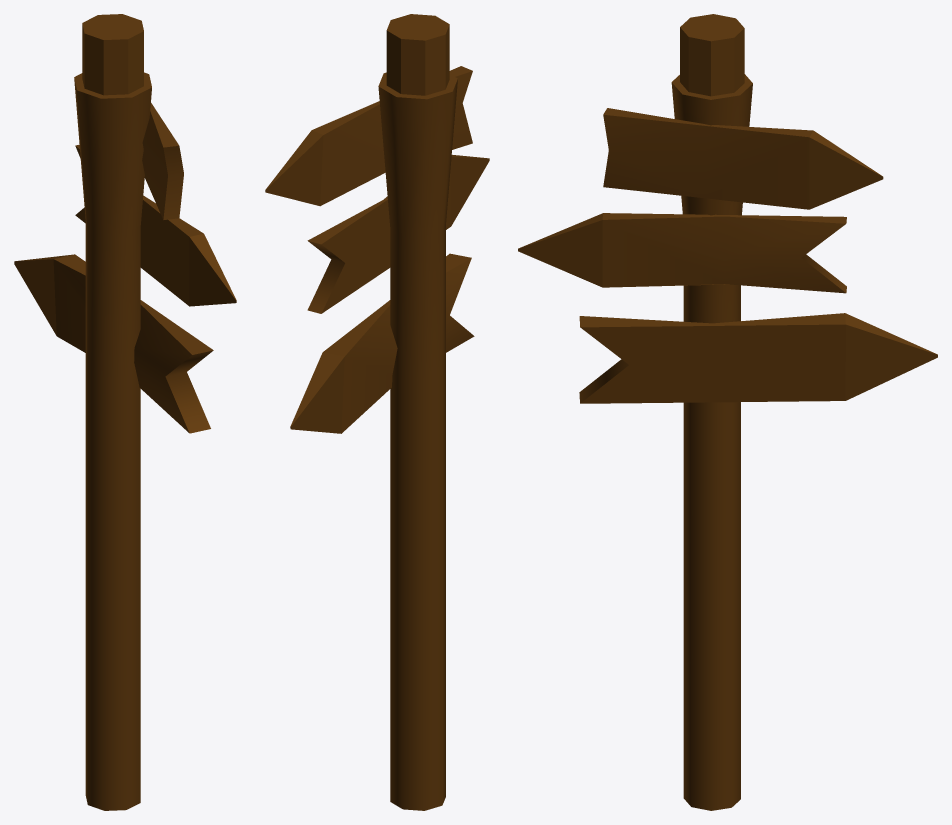
The model's file is signBoard.glb.
3 views of the same model, side by side, from view 1: azimuth 30°, elevation 25°; view 2: azimuth 150°, elevation 25°; view 3: azimuth 270°, elevation 25° (orthographic).
Parts seen in each view (by area): view 1: Cylinder001_Material #25_0, Box001_Material #25_0.001, Box001, Box002; view 2: Cylinder001_Material #25_0, Box001_Material #25_0.001, Box002, Box001; view 3: Cylinder001_Material #25_0, Box001_Material #25_0.001, Box001, Box002.
Part boxes in pixels (x1=…): Cylinder001_Material #25_0: x1=74, y1=14, x2=151, y2=810; Box001_Material #25_0.001: x1=14, y1=254, x2=213, y2=433; Box001: x1=75, y1=144, x2=236, y2=306; Box002: x1=142, y1=103, x2=183, y2=219; Cylinder001_Material #25_0: x1=378, y1=14, x2=457, y2=810; Box001_Material #25_0.001: x1=290, y1=253, x2=474, y2=433; Box002: x1=265, y1=66, x2=472, y2=206; Box001: x1=307, y1=154, x2=489, y2=313; Cylinder001_Material #25_0: x1=671, y1=14, x2=752, y2=810; Box001_Material #25_0.001: x1=579, y1=313, x2=937, y2=403; Box001: x1=518, y1=213, x2=846, y2=293; Box002: x1=603, y1=108, x2=883, y2=209.
Bounding box in the file's own units: 4.78 × 34.37 × 16.96.
